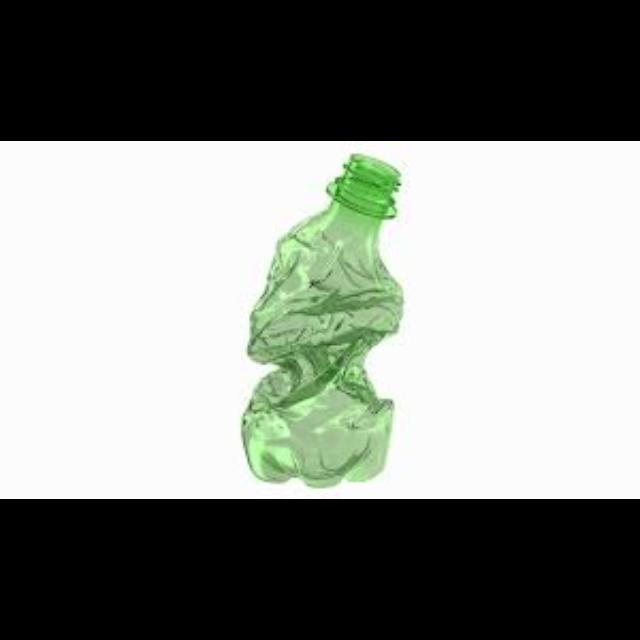trash: (233, 148, 412, 488)
